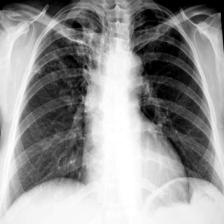tuberculosis: (1, 1, 224, 215)
